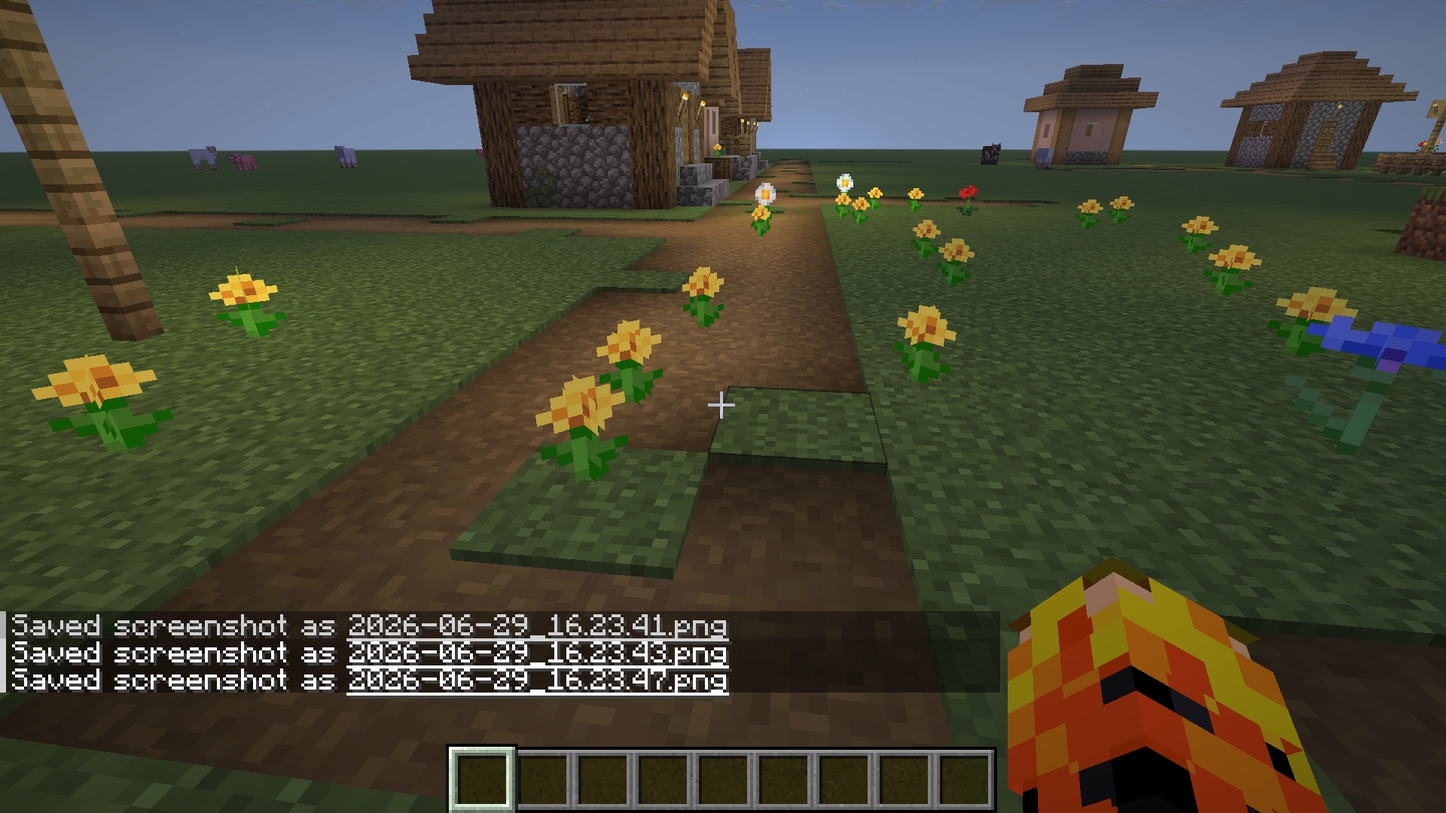Sheep: (327, 133, 384, 183), (187, 134, 223, 181), (1035, 140, 1056, 172)
cow: (975, 136, 1012, 174)
flower: (535, 372, 636, 494), (887, 295, 962, 402), (212, 271, 300, 352), (830, 163, 892, 233), (746, 167, 784, 241), (961, 181, 977, 224)
